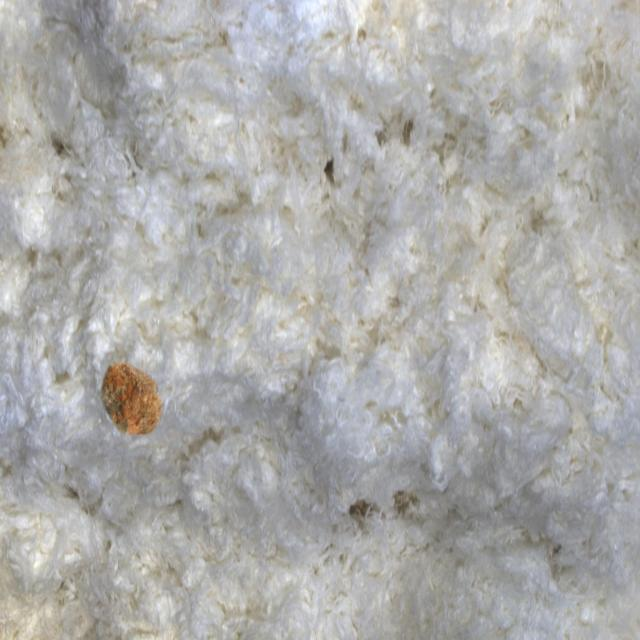dust: (75, 329, 198, 473)
